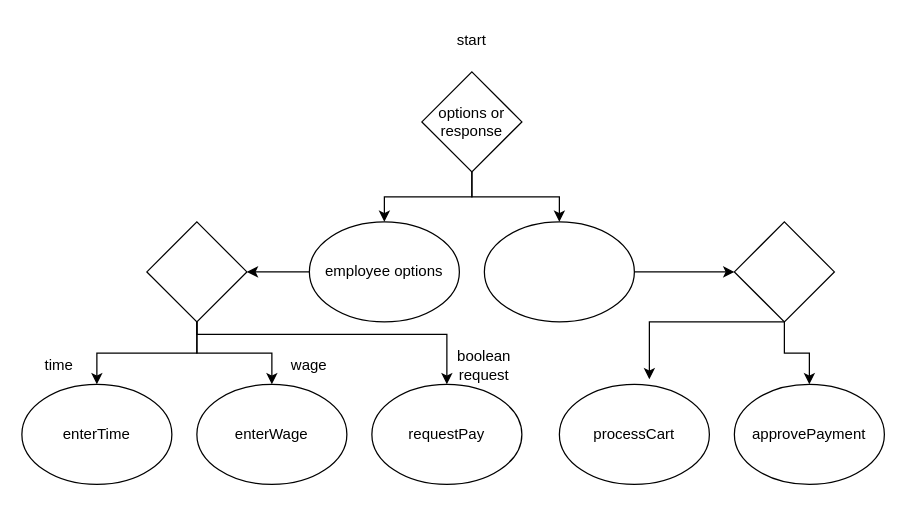
This 906x506 diagram has some shape labels left out. Here are the shapes that lost their labels. From the top down, the centre of each, then its label:
(x=196, y=271): option
(x=558, y=271): employee response
(x=783, y=271): response
